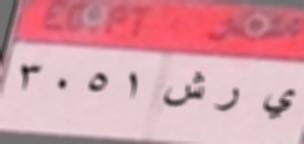0: (54, 75, 71, 94)
1: (123, 68, 143, 107)
3: (15, 58, 46, 97)
5: (85, 70, 114, 100)
raa: (212, 84, 241, 117)
sheen: (162, 68, 206, 113)
yaa: (258, 83, 296, 122)
